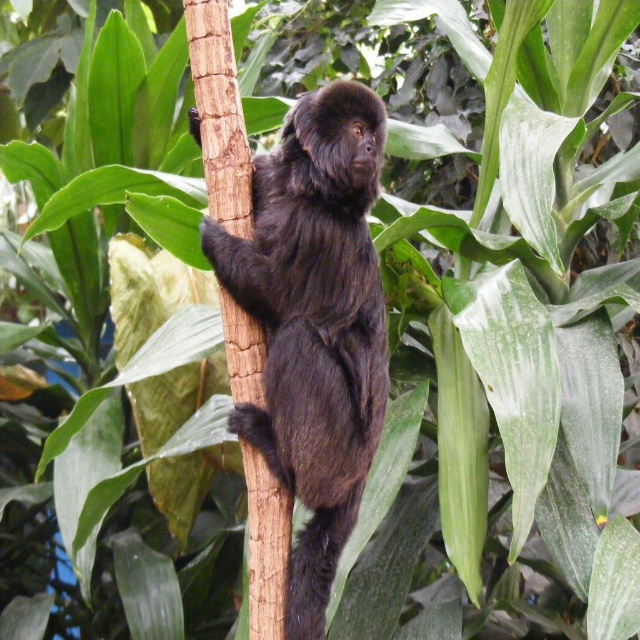Monkey: (188, 79, 390, 640)
